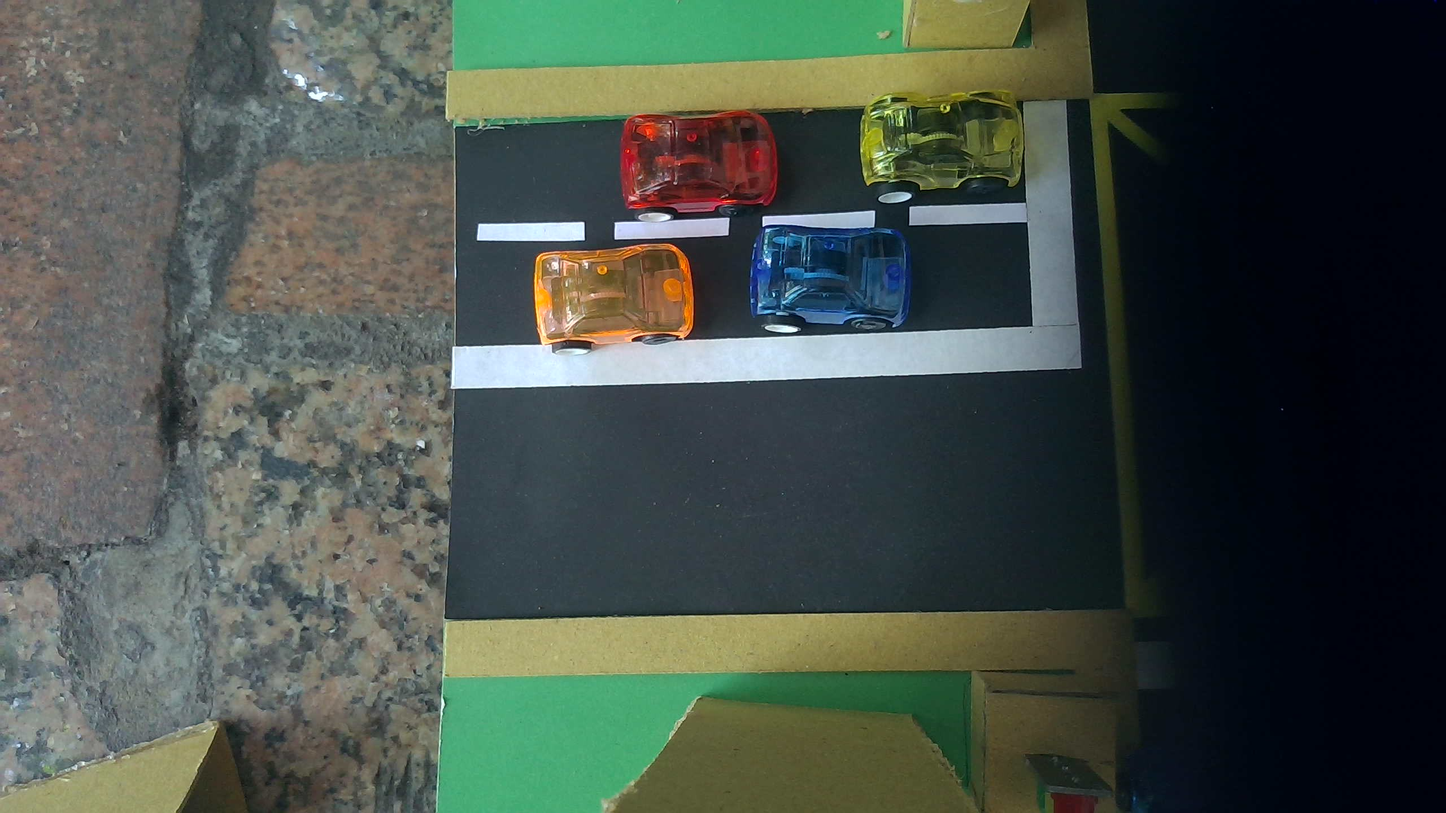Mobil biru: (750, 225, 912, 333)
Mobil kuning: (860, 91, 1024, 202)
Mobil merah: (620, 111, 778, 222)
Mobil orange: (533, 244, 695, 354)
